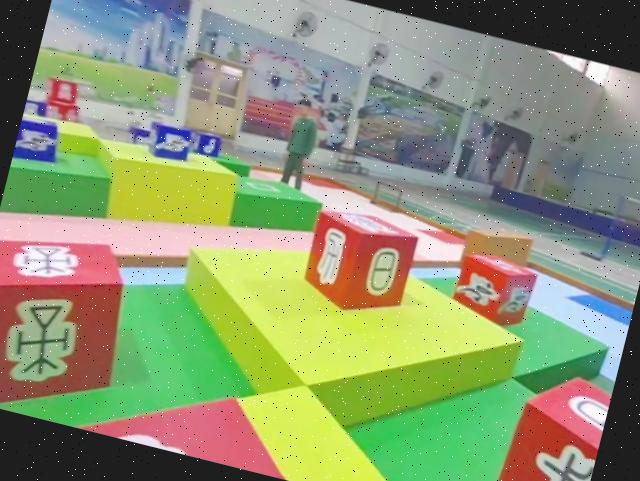R1: (446, 247, 541, 331)
R2 Fake: (482, 360, 614, 481), (295, 203, 422, 326)
R2 Real: (0, 213, 139, 432)
